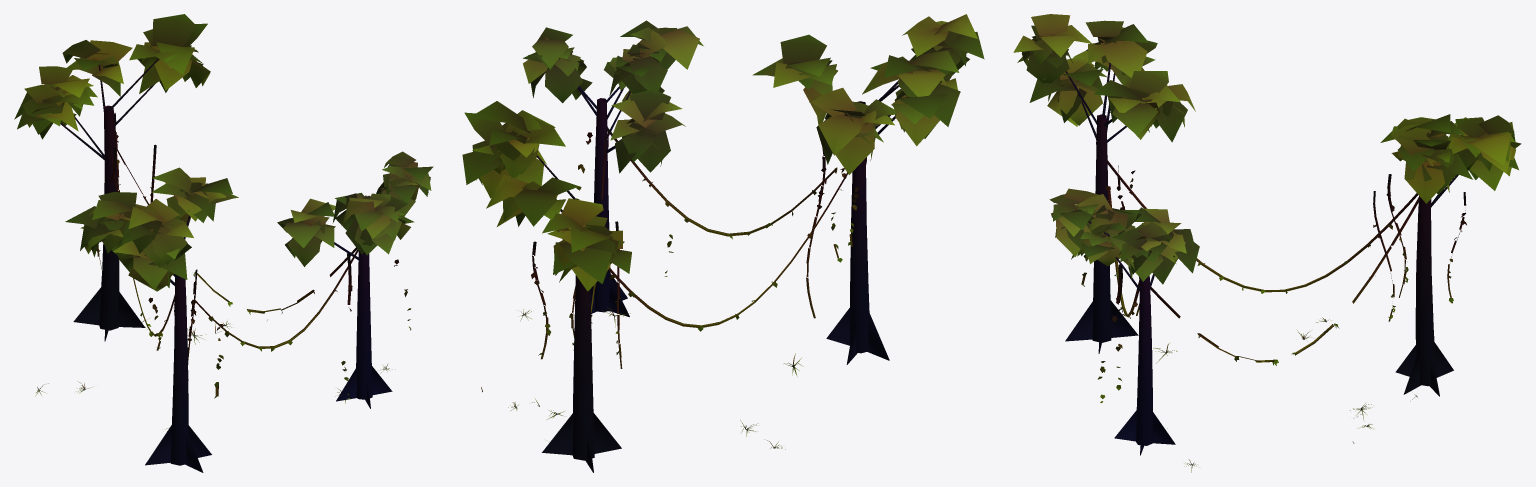
Rendered from patch_trail_far.glb.
The picture shows the model from 3 angles, left to right: view 1: azimuth 30°, elevation 25°; view 2: azimuth 150°, elevation 25°; view 3: azimuth 270°, elevation 25°; orthographic projection. The views are drawn at different scales.
Parts seen in each view (by area): view 1: patch_trail_far; view 2: patch_trail_far; view 3: patch_trail_far.
Boxes of the visible parts, x1,y1,x2,y2 form: patch_trail_far: (14,14,433,472); patch_trail_far: (462,14,984,472); patch_trail_far: (1013,14,1521,472).
Size of the model in its own units: 16.06 by 12.55 by 18.97.
1 material, 1 textured.
